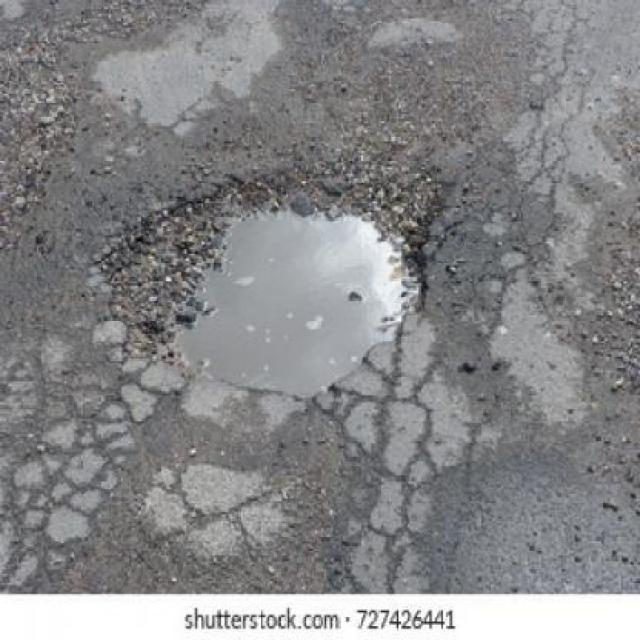Buraco: (97, 164, 447, 403)
